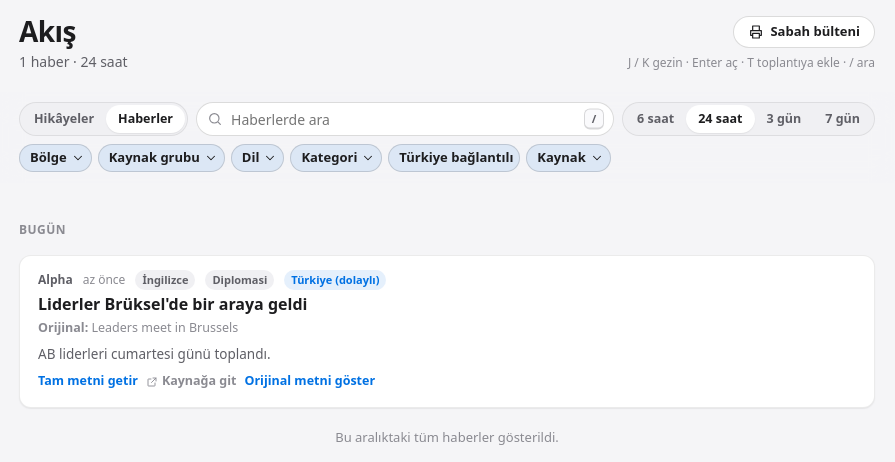
Test: AI in the feed › shows the Turkish AI title with category, relevance and the original one click away
Check: the text "Diplomasi" is shown, box [205,270,274,290]
Check: the text "Leaders meet in Brussels" is shown, box [92,319,238,336]
Click the button "Orijinal metni göster".
click(310, 382)  # box [244,372,375,391]
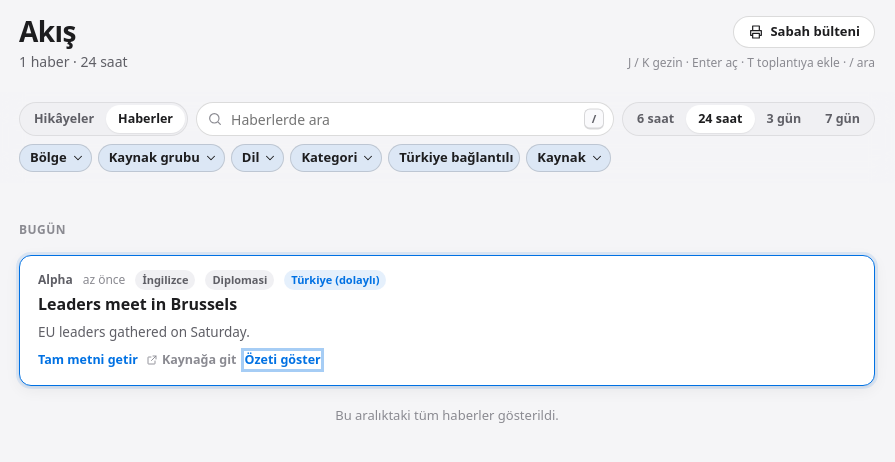
Check: the button "Leaders meet in Brussels" is shown, box [38,294,237,316]
Check: the button "EU leaders gathered on Saturday." is shown, box [38,323,250,341]
Click the button "Özeti göster".
click(283, 360)  # box [244,351,321,370]
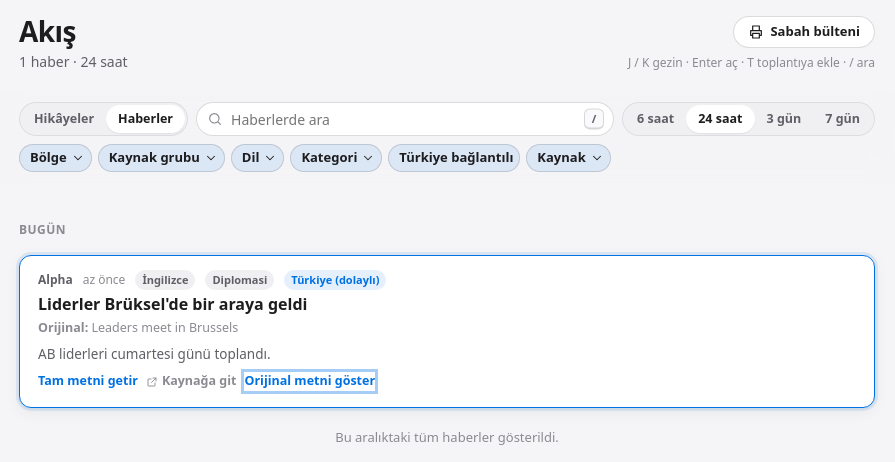
Check: the button "Liderler Brüksel'de bir araya geldi" is shown, box [38,294,307,316]
